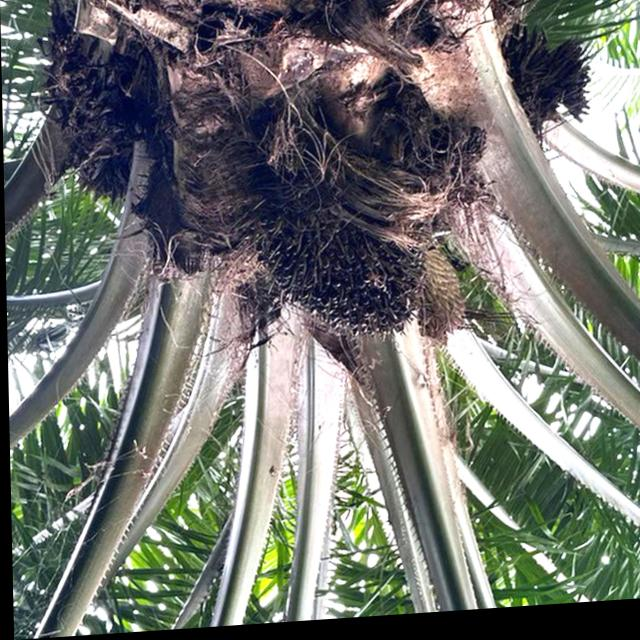unripe: (238, 175, 427, 355), (62, 111, 146, 217)
